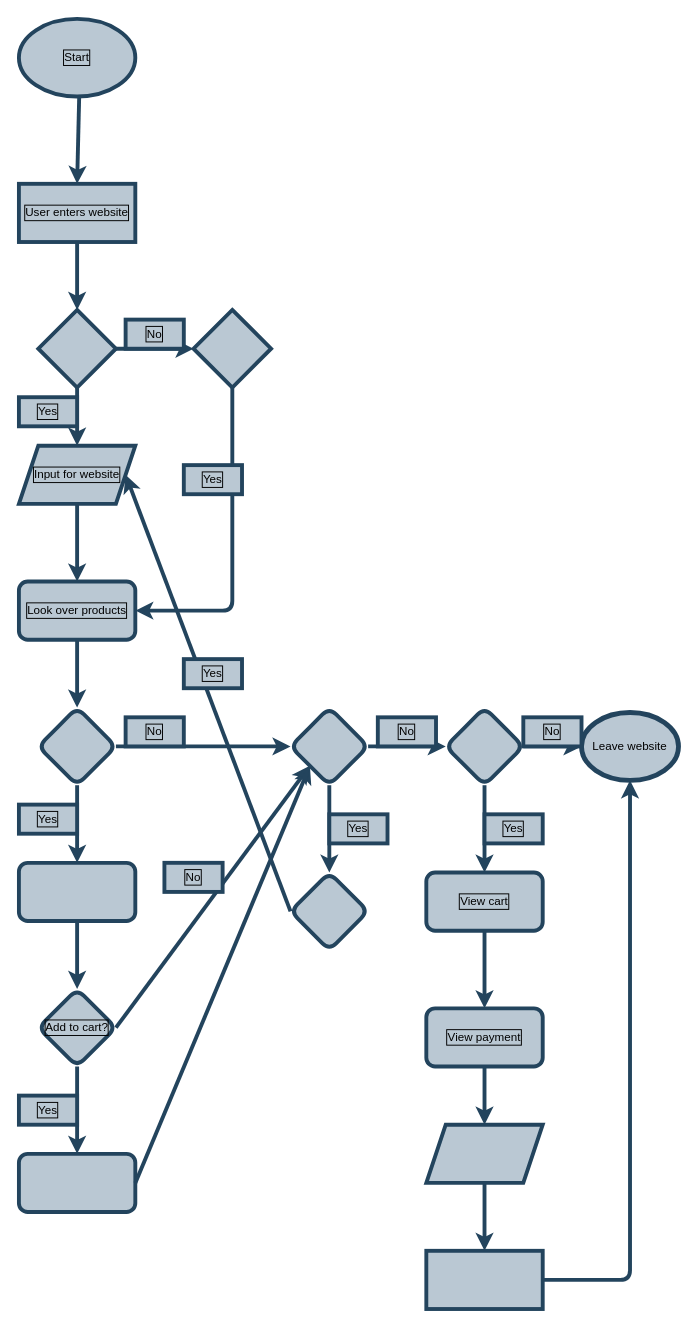
This 697x1327 diagram has some shape labels left out. The centre of each missing label's shape, as x and y in pixels:
Added to cart confirmation: the point at 76,1182
Checkout?: the point at 484,746
Continue shopping?: the point at 329,746
Explore products: the point at 232,348
Input payment information: the point at 484,1153
order confirmation + email: the point at 484,1279
Product's website opens: the point at 76,891
Search for new product?: the point at 329,911
Search for product: the point at 76,348
View specific product: the point at 76,746
